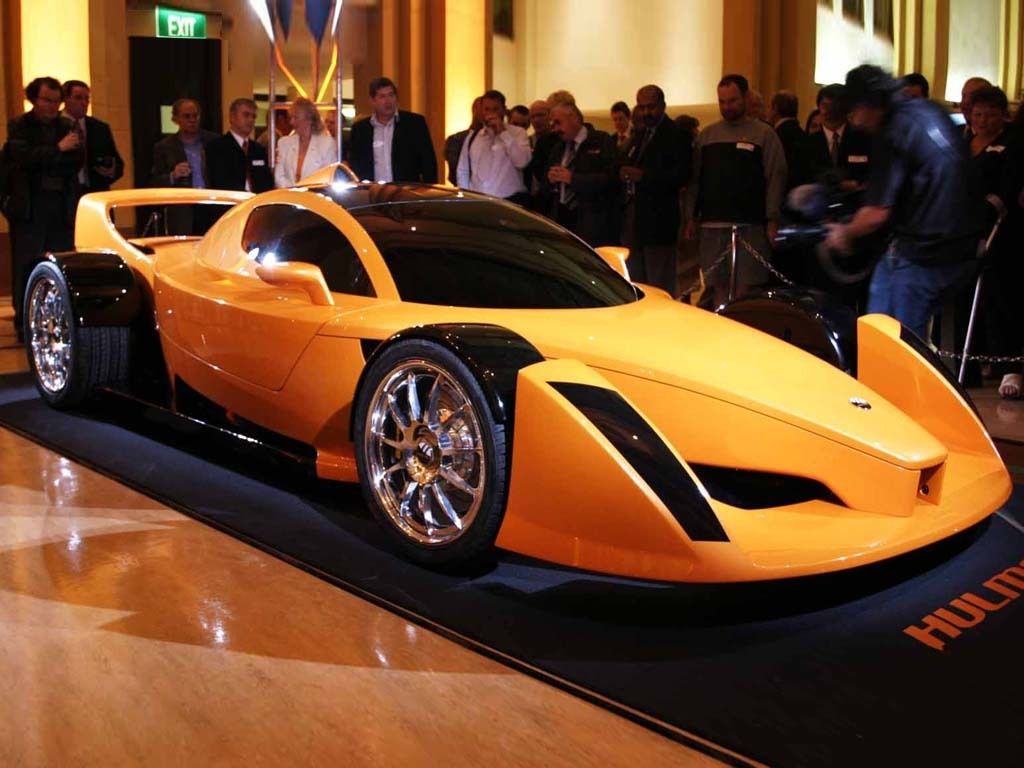Car: (46, 160, 992, 608)
